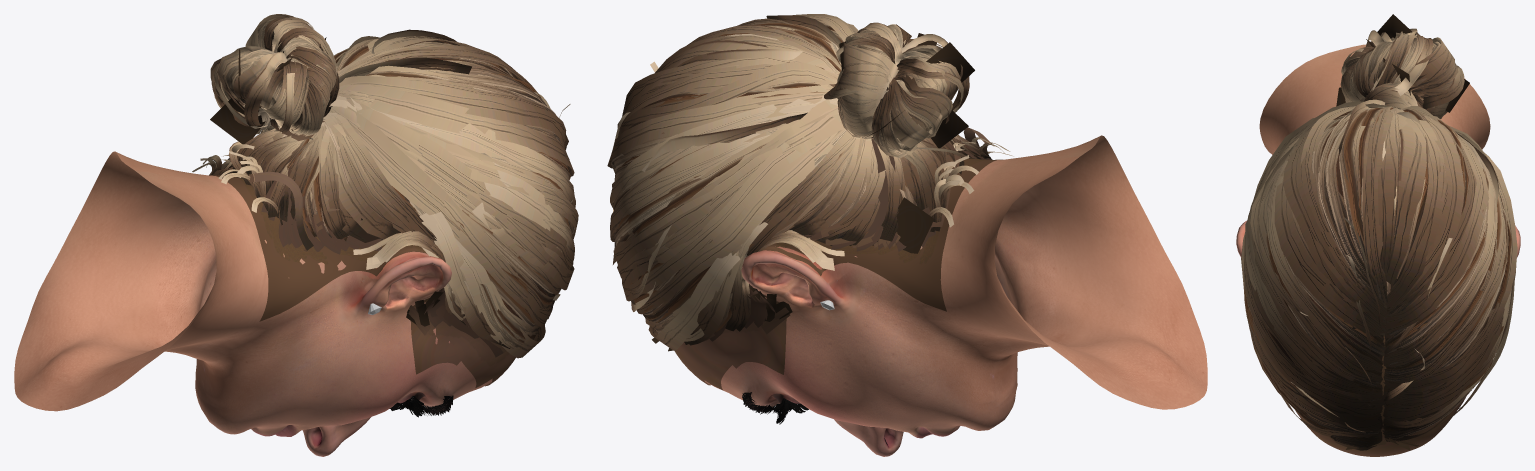
File: head_c_sat_usa_pl_sunflower_base_LOD0.obj
3 views of the same model, side by side, from view 1: azimuth 30°, elevation 25°; view 2: azimuth 150°, elevation 25°; view 3: azimuth 270°, elevation 25° (orthographic). The views are drawn at different scales.
Visible parts, largest first — view 1: material_13f59f1e7d42a19e, material_6313d683b2c5b3bb, material_36db2828afb04d8c; view 2: material_13f59f1e7d42a19e, material_6313d683b2c5b3bb, material_36db2828afb04d8c; view 3: material_13f59f1e7d42a19e, material_6313d683b2c5b3bb, material_36db2828afb04d8c.
Part boxes in pixels (left/top/right/bottom): material_13f59f1e7d42a19e: left=192, top=14, right=578, bottom=358; material_6313d683b2c5b3bb: left=14, top=151, right=492, bottom=456; material_36db2828afb04d8c: left=209, top=175, right=515, bottom=387; material_13f59f1e7d42a19e: left=607, top=14, right=1013, bottom=351; material_6313d683b2c5b3bb: left=704, top=135, right=1207, bottom=456; material_36db2828afb04d8c: left=674, top=158, right=1002, bottom=390; material_13f59f1e7d42a19e: left=1241, top=14, right=1517, bottom=450; material_6313d683b2c5b3bb: left=1236, top=44, right=1520, bottom=257; material_36db2828afb04d8c: left=1295, top=335, right=1465, bottom=456.
Size of the model in its own units: 35.37 by 26.46 by 17.6.
